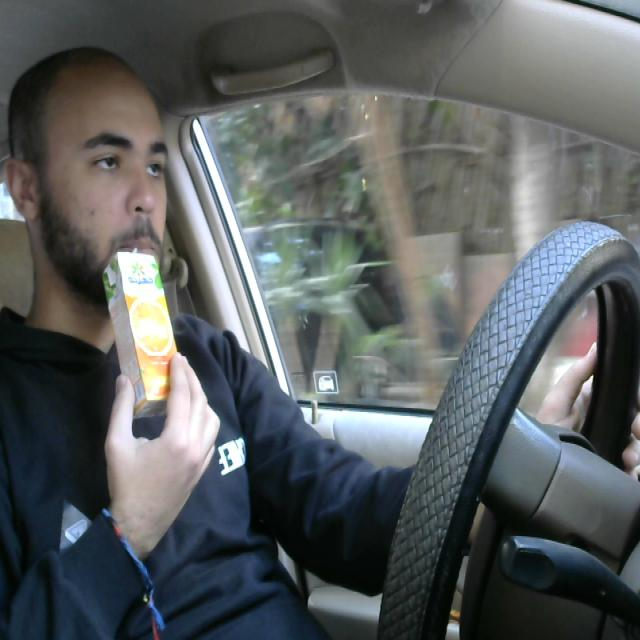drinking: (102, 236, 190, 422)
